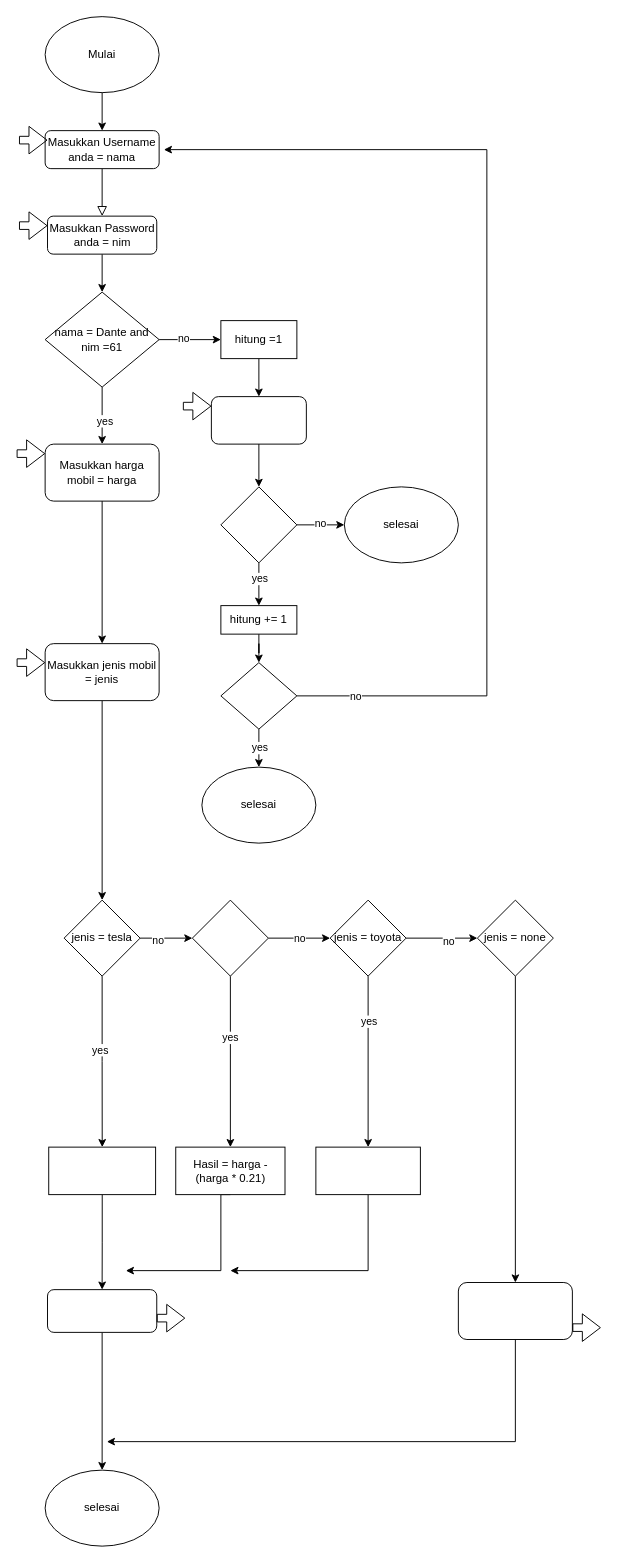
This 617x1563 diagram has some shape labels left out. Here are the shapes that lost their labels. From the top down, the box of each, then its label:
(210, 396, 306, 444): Apakah anda ingin mengulang?
(220, 486, 297, 563): ulang = ya
(220, 662, 297, 729): hitung =3
(191, 899, 268, 976): jenis = hyundai
(48, 1146, 156, 1195): Hasil = harga - (harga * 0.17)
(315, 1146, 420, 1195): Hasil = harga - (harga * 0.23)
(47, 1289, 157, 1332): Bu Navira membeli mobil seharga {Hasil}
(457, 1282, 572, 1340): Bu Navira tidak jadi membeli mobil
